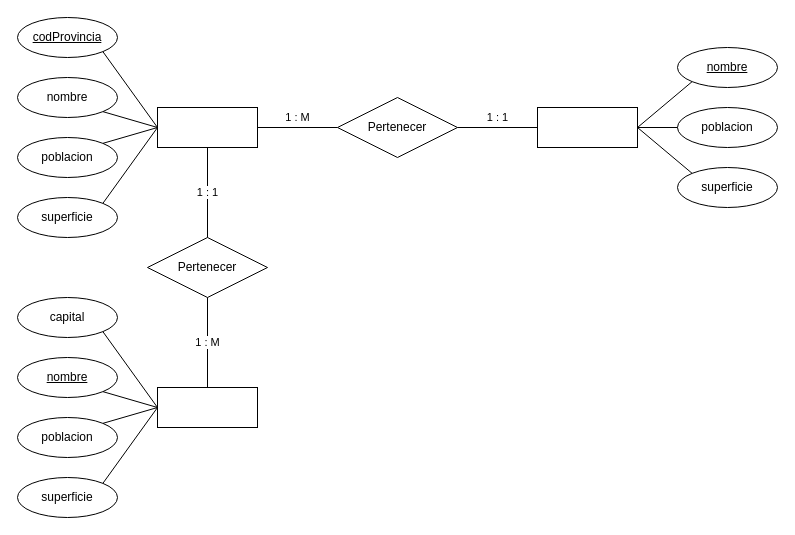
Some shapes in this 795 by 535 pixel diagram are drawn without their labels. Each missing label, with the box of its shape:
COMUNIDAD AUTONOMA: (536, 106, 638, 148)
LOCALIDAD: (156, 386, 258, 428)
PROVINCIA: (156, 106, 258, 148)
